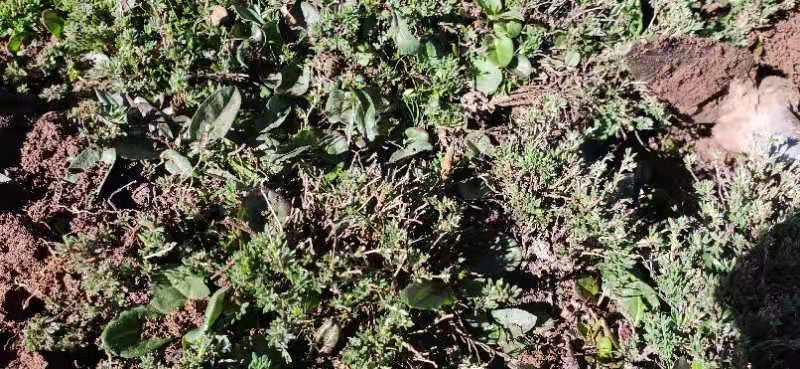cpf: (440, 142, 458, 182)
